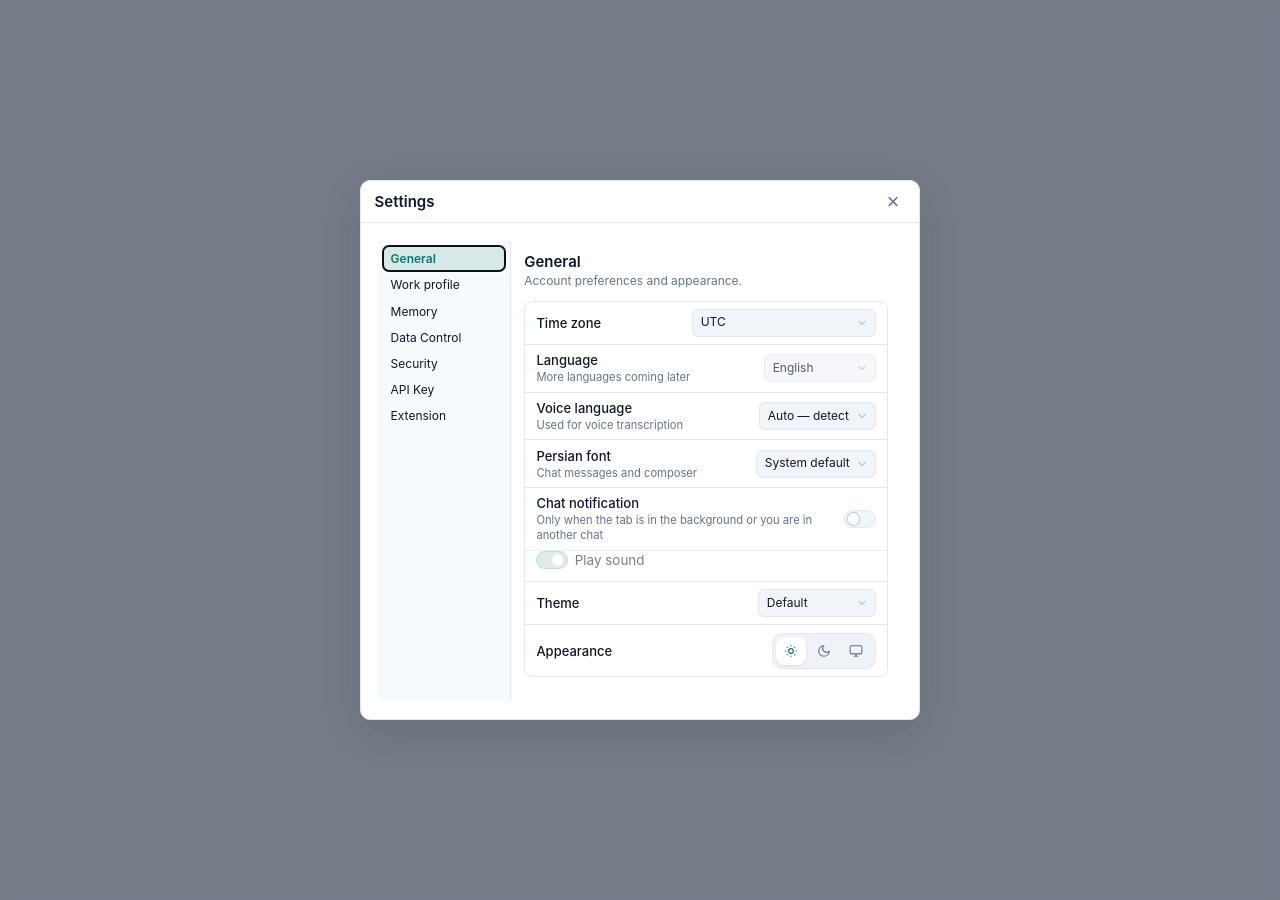
Test case: Settings → Security › offers a View button and opens the history in a dialog rather than inline
Click the button "Security". click: (444, 363)
box: [383,351,505,376]
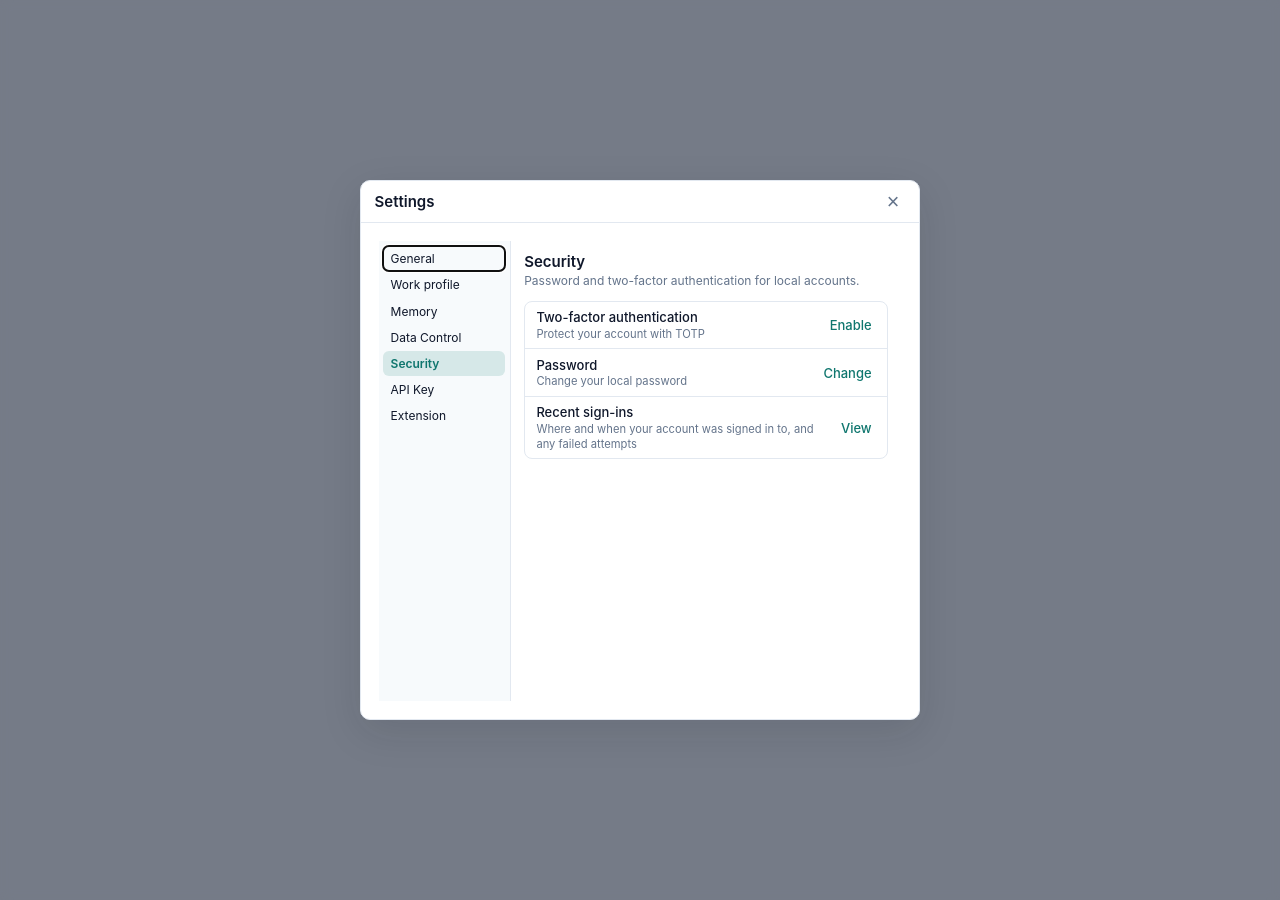
expect the text "198.51.100.9" is not shown: met
expect the text "Recent sign-ins" is shown: met, box [536,404,633,420]
Click the button "View". click: (856, 428)
box: [837,417,876,439]
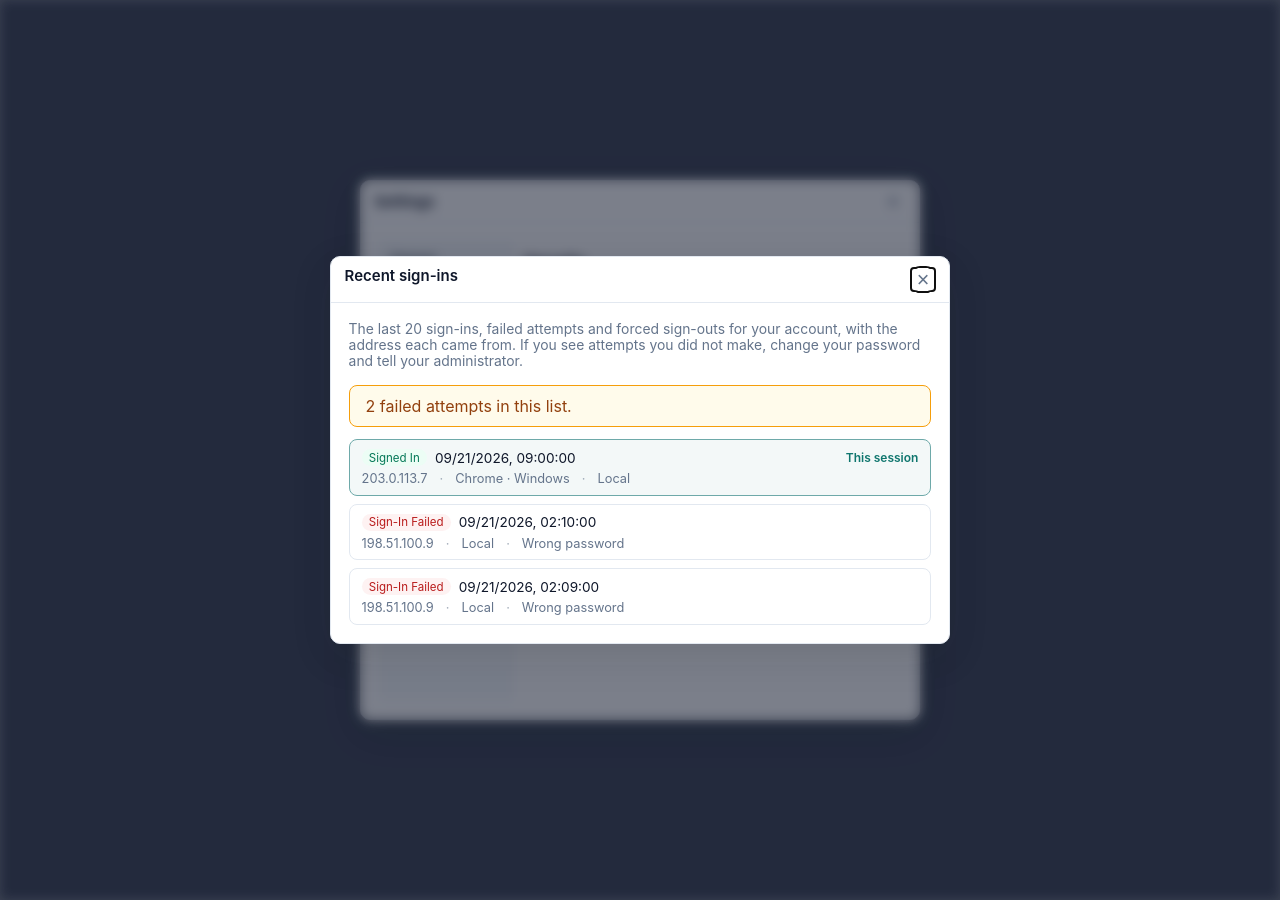
expect the number of dialogs is 2: met, box [360,180,920,720]; [330,256,950,644]
expect the dialog shows "198.51.100.9": met, box [362,536,434,551]
